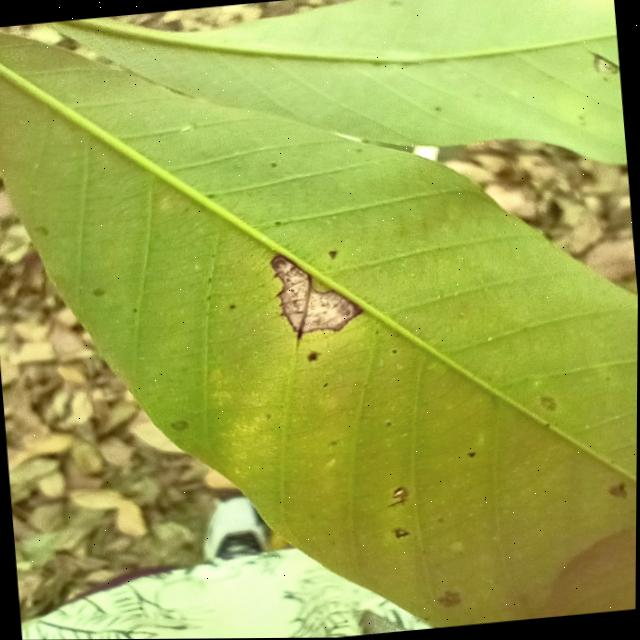Colletotrichum: (393, 525, 413, 539), (391, 486, 409, 499), (306, 352, 320, 362), (328, 250, 339, 259)
Leaf-Blight: (276, 250, 354, 336)
